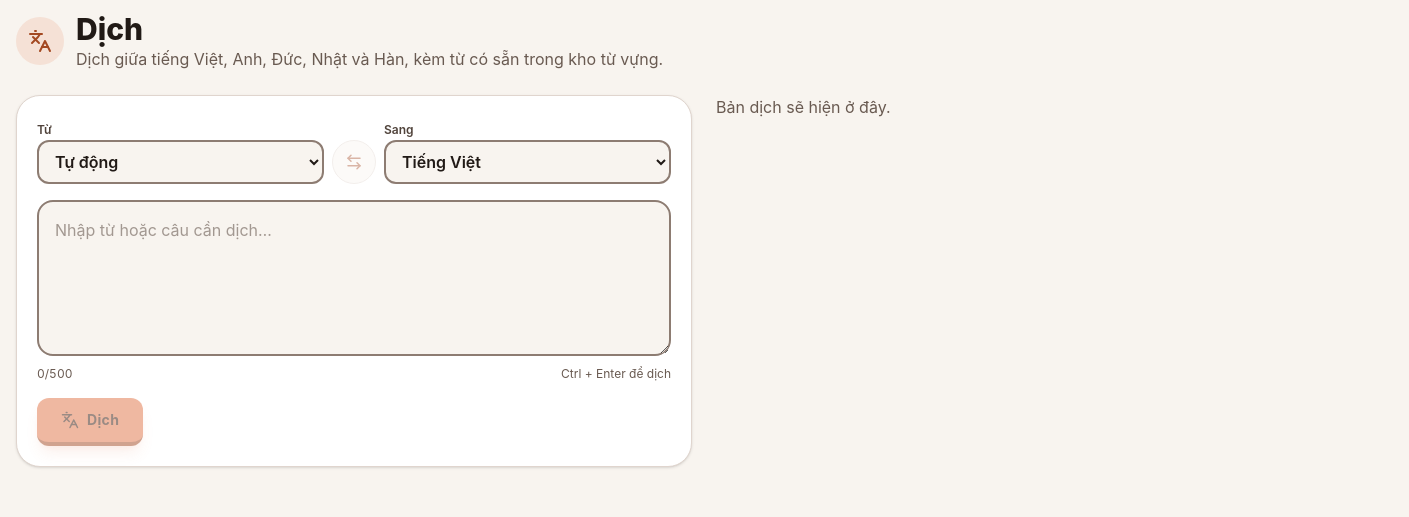
Test: TranslatePage › blocks the same language on both sides and shows API errors
Select "Tiếng Việt" in the dropdown labelled "Từ" at (180, 162), box [37,140,324,184]
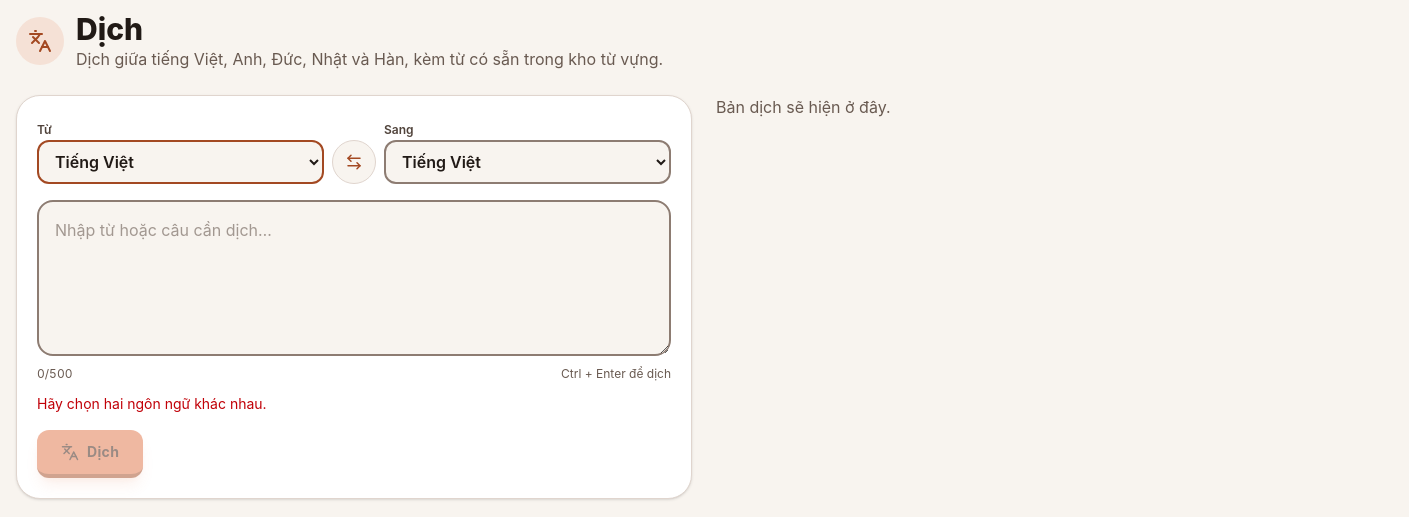
Type "xin chào" into the text box named "Nội dung cần dịch" at (354, 278), box [37,200,671,356]
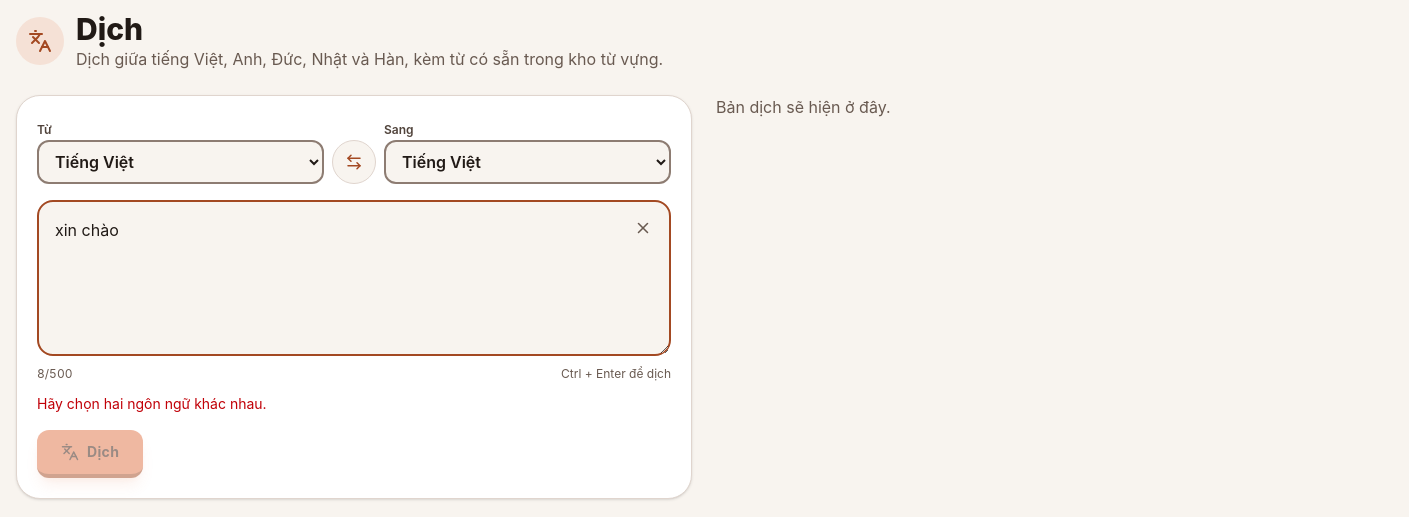
Expected: the button "Dịch" is disabled, [37,430,143,478]
Now the text "Hãy chọn hai ngôn ngữ khác nhau." is shown, box [37,395,267,412]
Select "Tiếng Đức" in the dropdown labelled "Sang" at (528, 162), box [384,140,671,184]
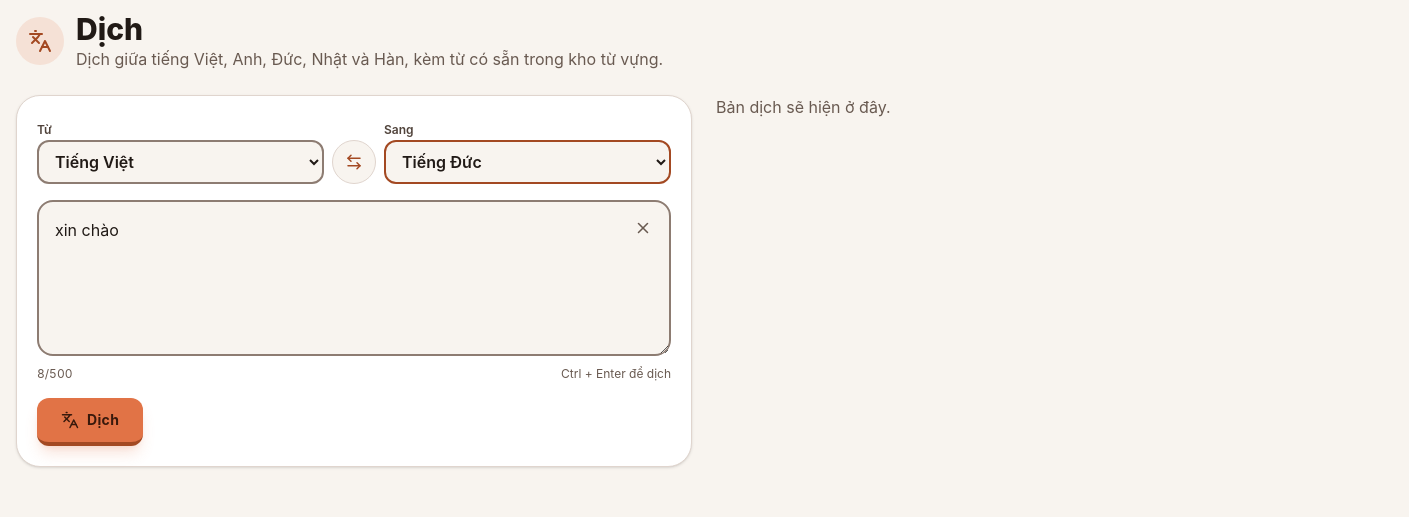
Click the button "Dịch" at (90, 422), box [37,398,143,446]
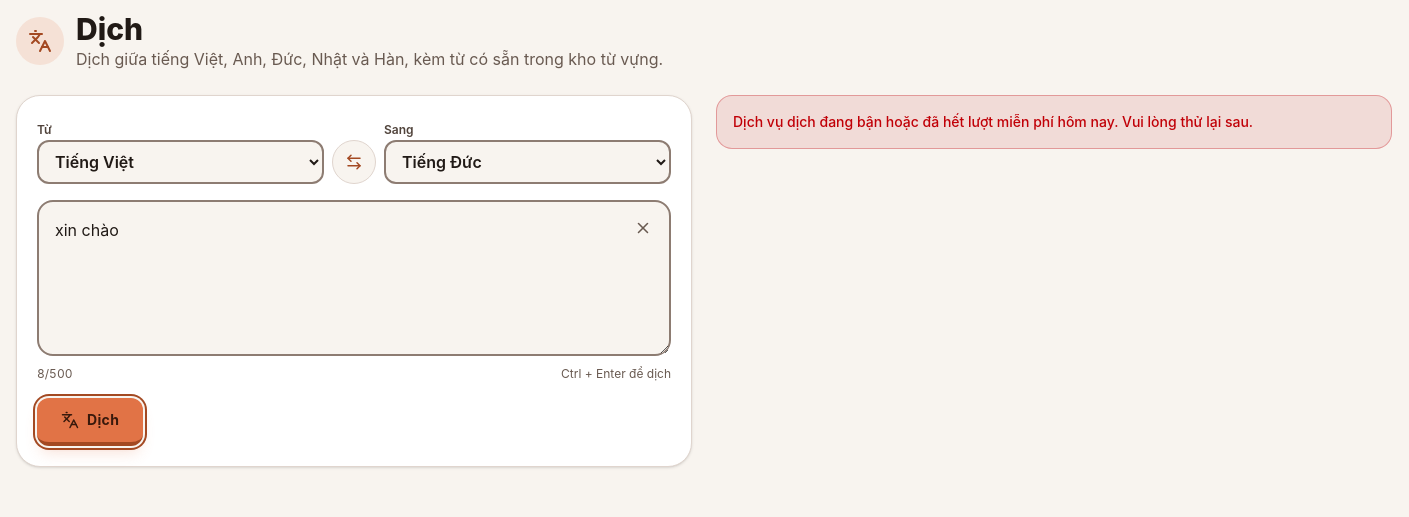
Now the message shows "Dịch vụ dịch đang bận", box [733,113,1253,130]
